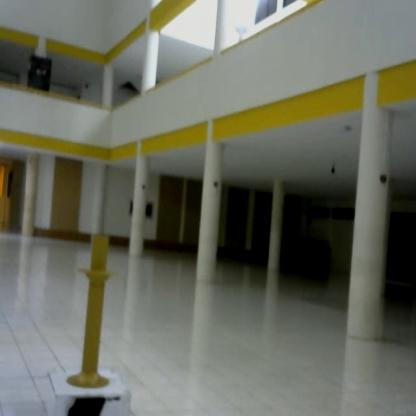pole: (64, 228, 127, 395)
